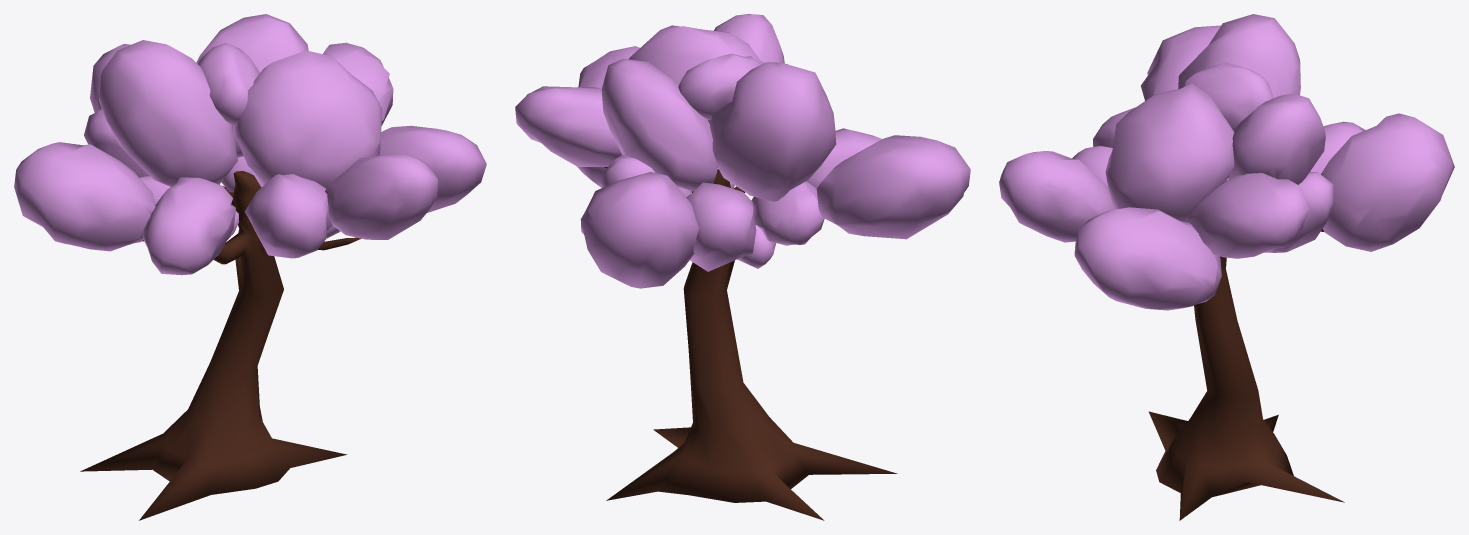
The model's file is treeunsubdivided.gltf.
3 renders of one model, left to right at view 1: azimuth 30°, elevation 25°; view 2: azimuth 150°, elevation 25°; view 3: azimuth 270°, elevation 25°, orthographic. The views are drawn at different scales.
Visible parts, largest first — view 1: Cube.002, Cube.020, Cube.021, Cube.007, Cube.004, Cube.011, Cube.006, Cube.016, Cube.019, Cube.017, Cube.010, Cube.013 (+1 smaller); view 2: Cube.002, Cube.021, Cube.007, Cube.009, Cube.019, Cube.010, Cube.013, Cube.020, Cube.012, Cube.017, Cube.004, Cube.011 (+3 smaller); view 3: Cube.002, Cube.009, Cube.020, Cube.016, Cube.010, Cube.004, Cube.019, Cube.021, Cube.017, Cube.007, Cube.014, Cube.013 (+2 smaller).
Boxes of the visible parts, x1,y1,x2,y2 form: Cube.002: (80, 171, 360, 520); Cube.020: (234, 50, 382, 188); Cube.021: (99, 40, 237, 186); Cube.007: (14, 142, 155, 251); Cube.004: (325, 154, 437, 239); Cube.011: (143, 177, 235, 275); Cube.006: (244, 174, 332, 258); Cube.016: (379, 125, 486, 212); Cube.019: (196, 14, 308, 157); Cube.017: (198, 43, 259, 126); Cube.010: (323, 42, 393, 126); Cube.013: (84, 109, 149, 177); Cube.002: (604, 167, 897, 520); Cube.021: (710, 62, 836, 201); Cube.007: (817, 135, 970, 239); Cube.009: (580, 172, 699, 288); Cube.019: (601, 58, 718, 191); Cube.010: (515, 86, 622, 166); Cube.013: (686, 182, 756, 271); Cube.020: (629, 25, 763, 124); Cube.012: (751, 181, 824, 245); Cube.017: (678, 53, 761, 119); Cube.004: (714, 14, 784, 63); Cube.011: (806, 128, 881, 189); Cube.002: (1148, 229, 1344, 520); Cube.009: (1321, 113, 1454, 251); Cube.020: (1105, 83, 1234, 222); Cube.016: (1074, 207, 1221, 310); Cube.010: (1186, 173, 1310, 258); Cube.004: (999, 151, 1114, 242); Cube.019: (1228, 93, 1325, 184); Cube.021: (1178, 14, 1300, 97); Cube.017: (1183, 62, 1273, 131); Cube.007: (1141, 25, 1220, 100); Cube.014: (1266, 171, 1333, 252); Cube.013: (1310, 121, 1365, 174).
Bounding box in the file's own units: 19.11 × 18.43 × 18.12.
